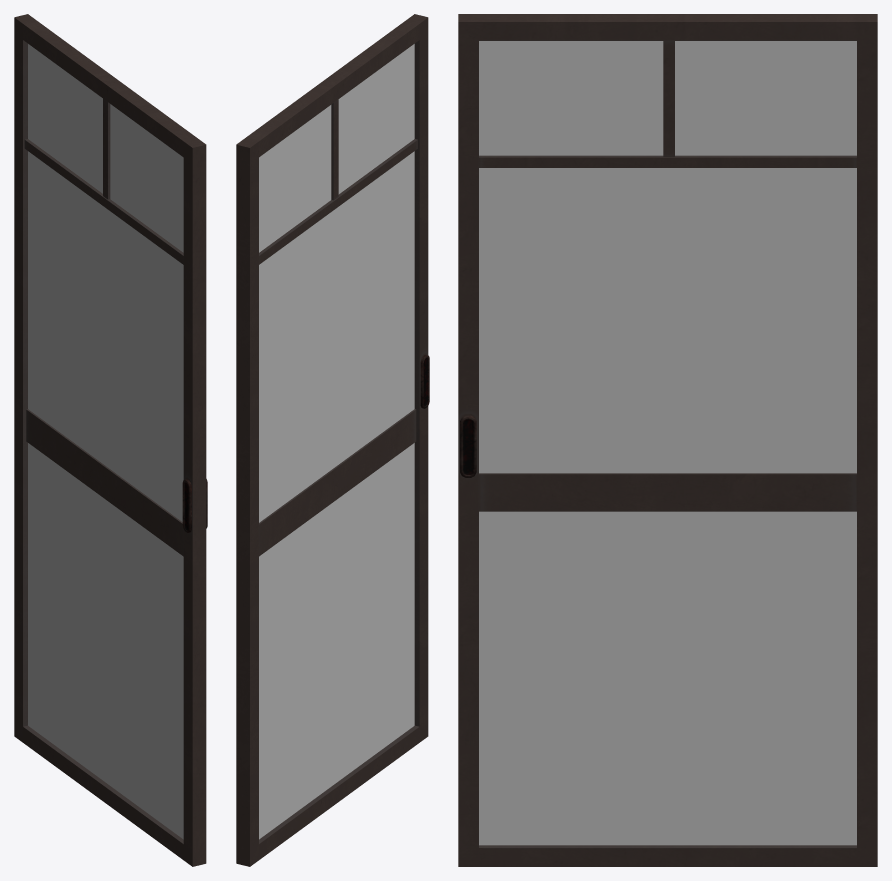
The model's file is SM_Door_02.fbx.
3 renders of one model, left to right at view 1: azimuth 30°, elevation 25°; view 2: azimuth 150°, elevation 25°; view 3: azimuth 270°, elevation 25°, orthographic. The views are drawn at different scales.
Visible parts, largest first — view 1: SM_Door_02_LOD0; view 2: SM_Door_02_LOD0; view 3: SM_Door_02_LOD0.
Part boxes in pixels (left/top/right/bottom): SM_Door_02_LOD0: left=14, top=14, right=207, bottom=866; SM_Door_02_LOD0: left=236, top=14, right=429, bottom=866; SM_Door_02_LOD0: left=458, top=14, right=877, bottom=866.
Size of the model in its own units: 5.34 by 90 by 200.
